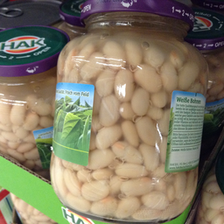beans: (55, 1, 209, 220)
